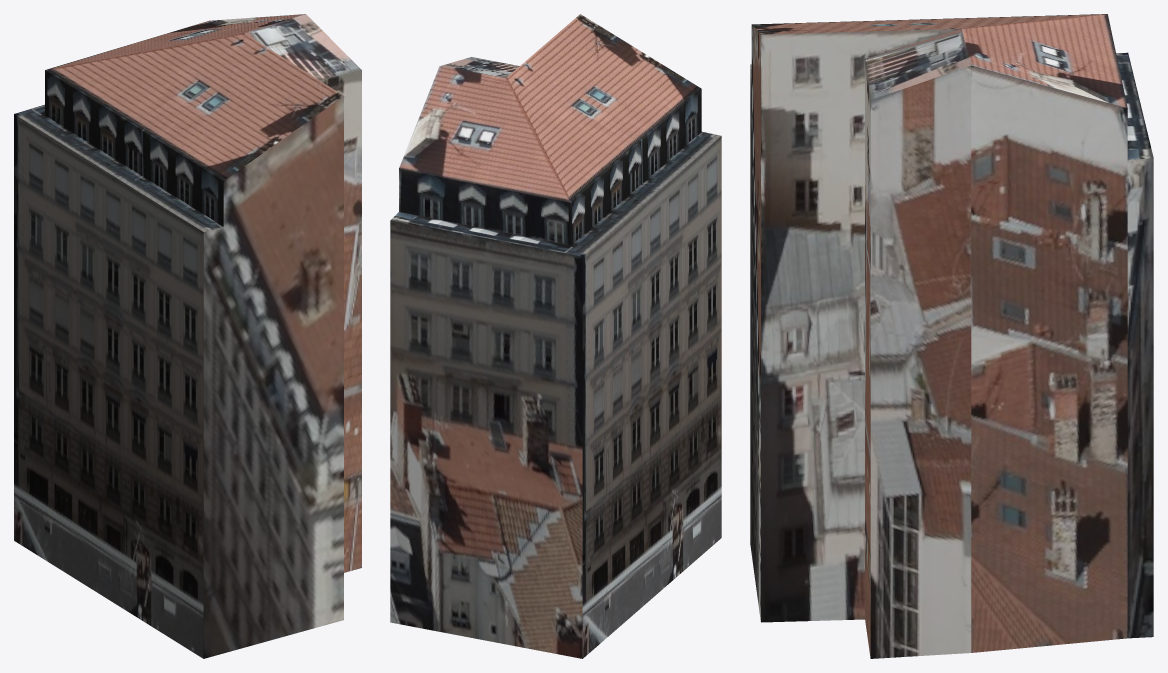
3 views of the same model, side by side, from view 1: azimuth 30°, elevation 25°; view 2: azimuth 150°, elevation 25°; view 3: azimuth 270°, elevation 25° (orthographic). The views are drawn at different scales.
Visible parts, largest first — view 1: Z_UP; view 2: Z_UP; view 3: Z_UP.
Boxes of the visible parts, bbox=[...] form: Z_UP: bbox=[14, 14, 361, 658]; Z_UP: bbox=[390, 14, 721, 658]; Z_UP: bbox=[750, 14, 1153, 658].
Size of the model in its own units: 13.79 by 29.67 by 18.45.
2 materials, 1 textured.
